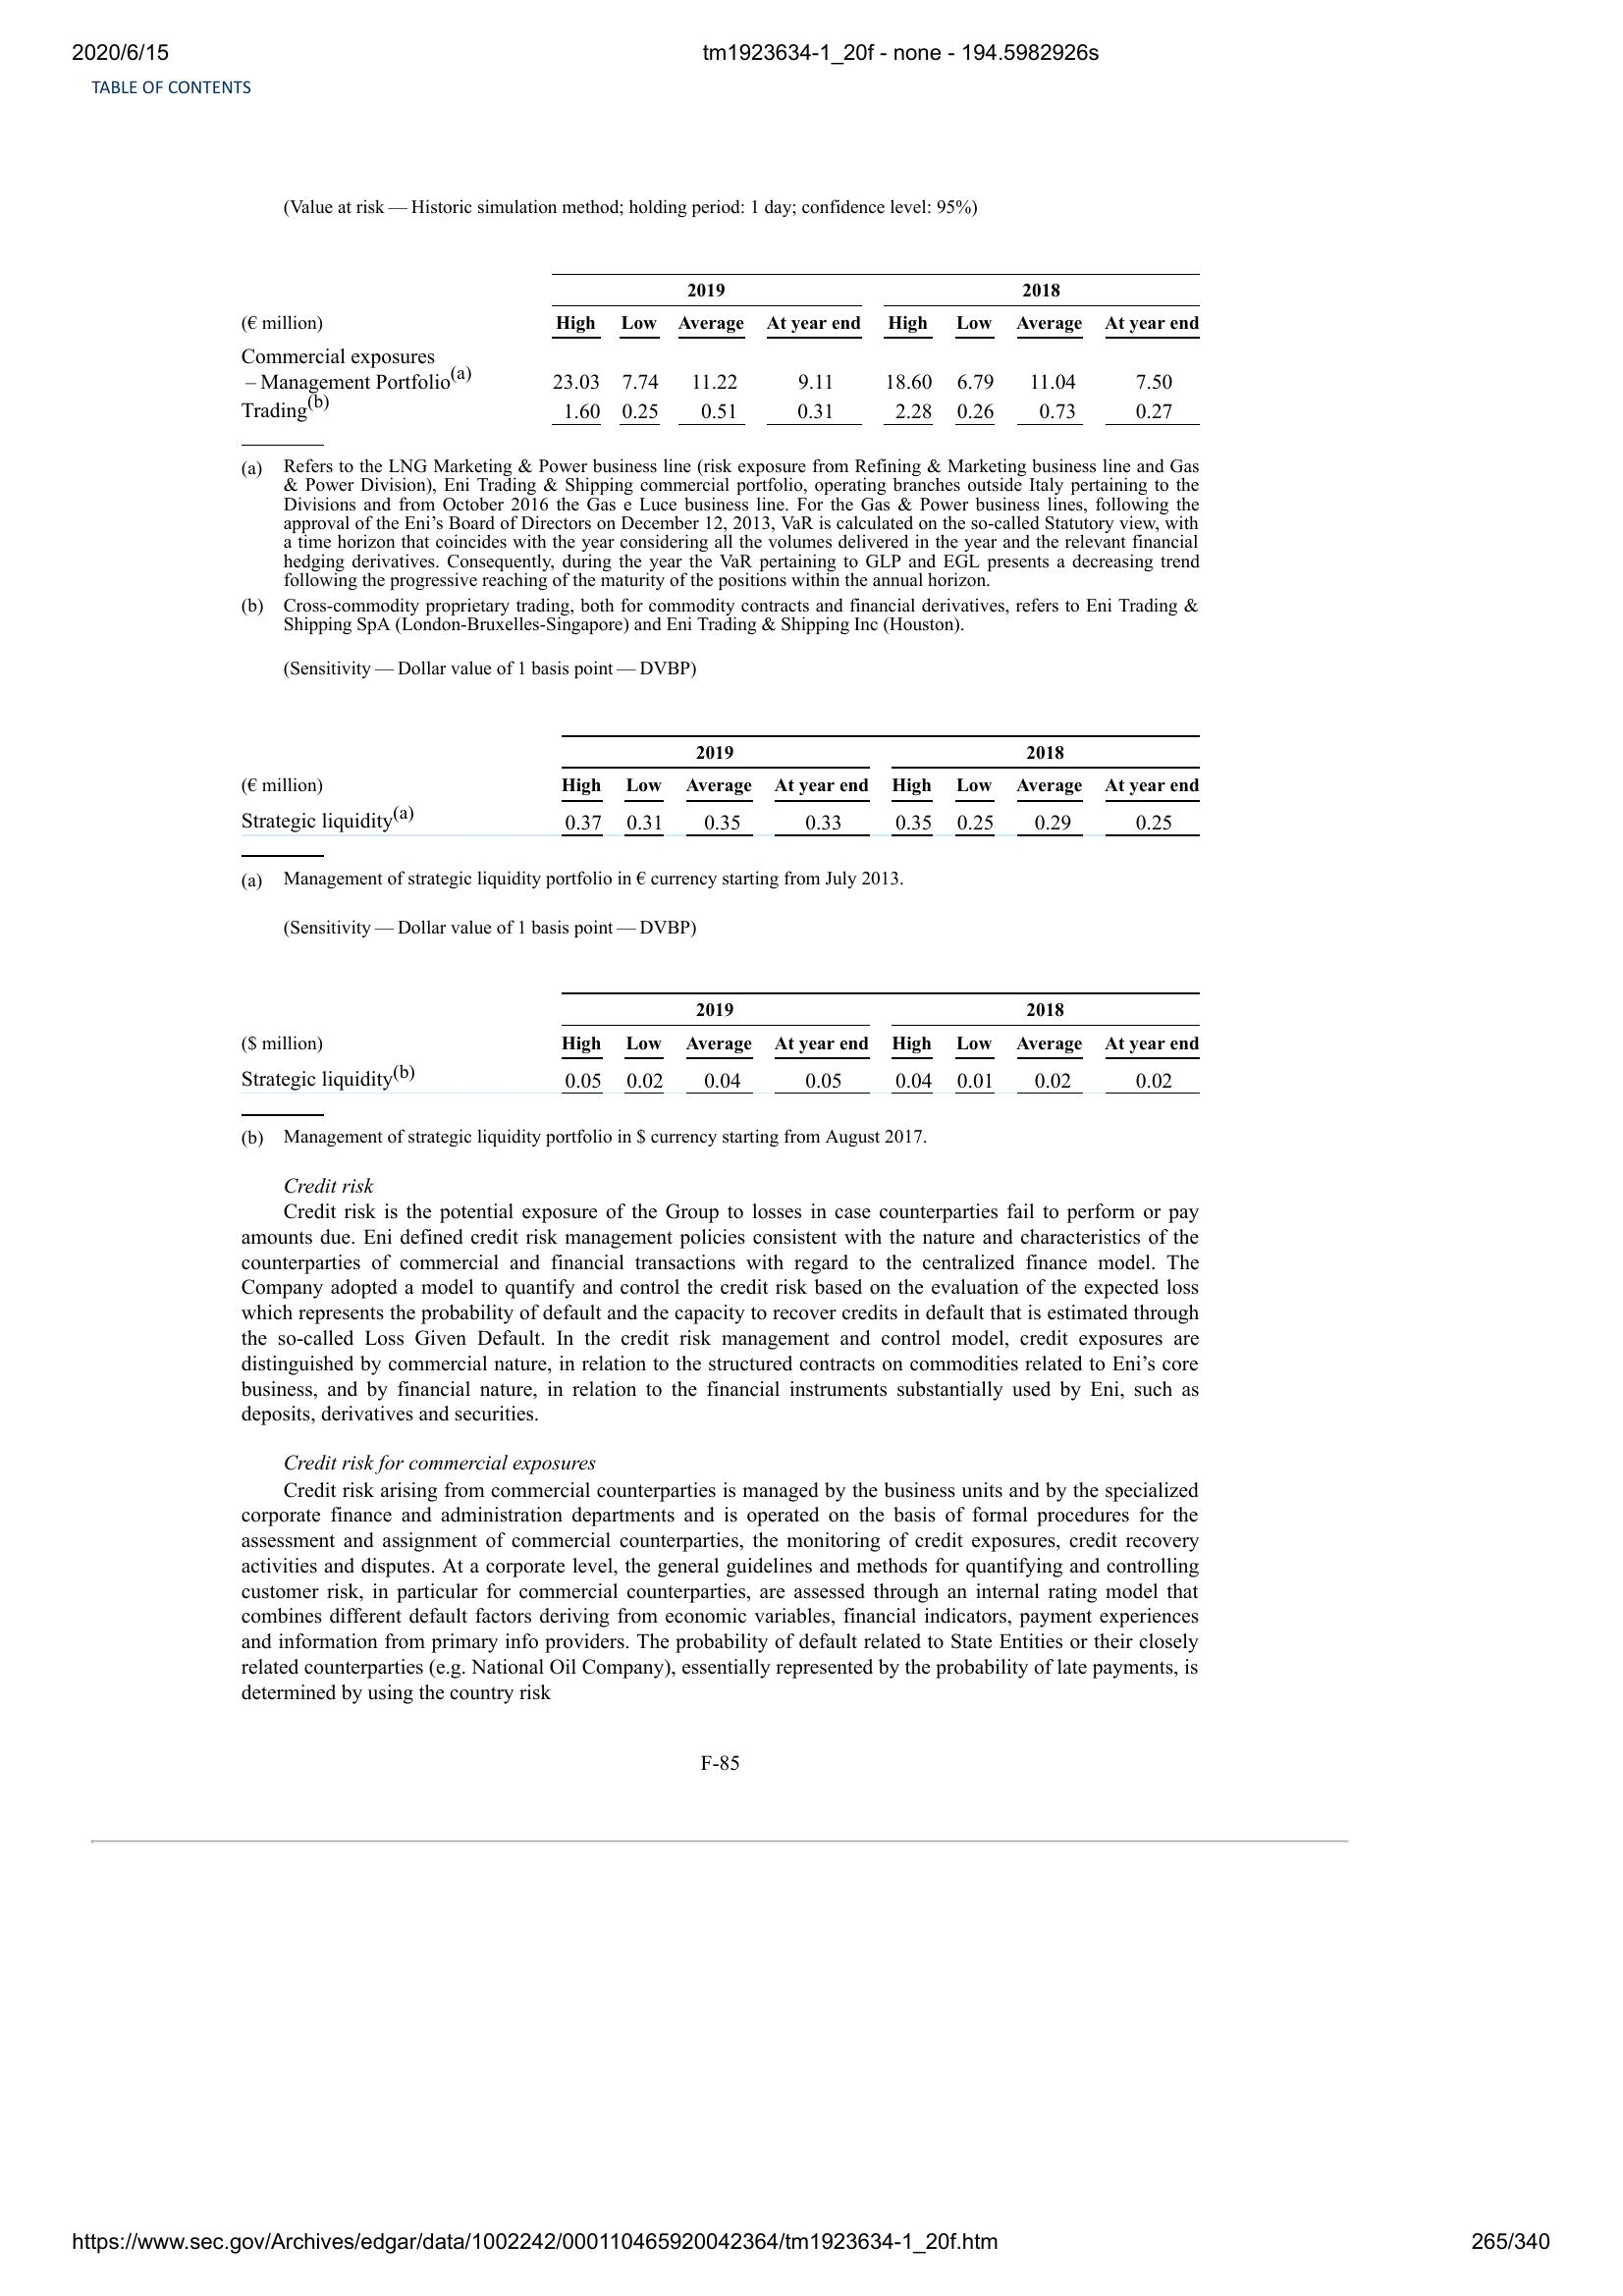table: (232, 267, 1208, 428), (242, 983, 1200, 1101), (235, 730, 1205, 839)
